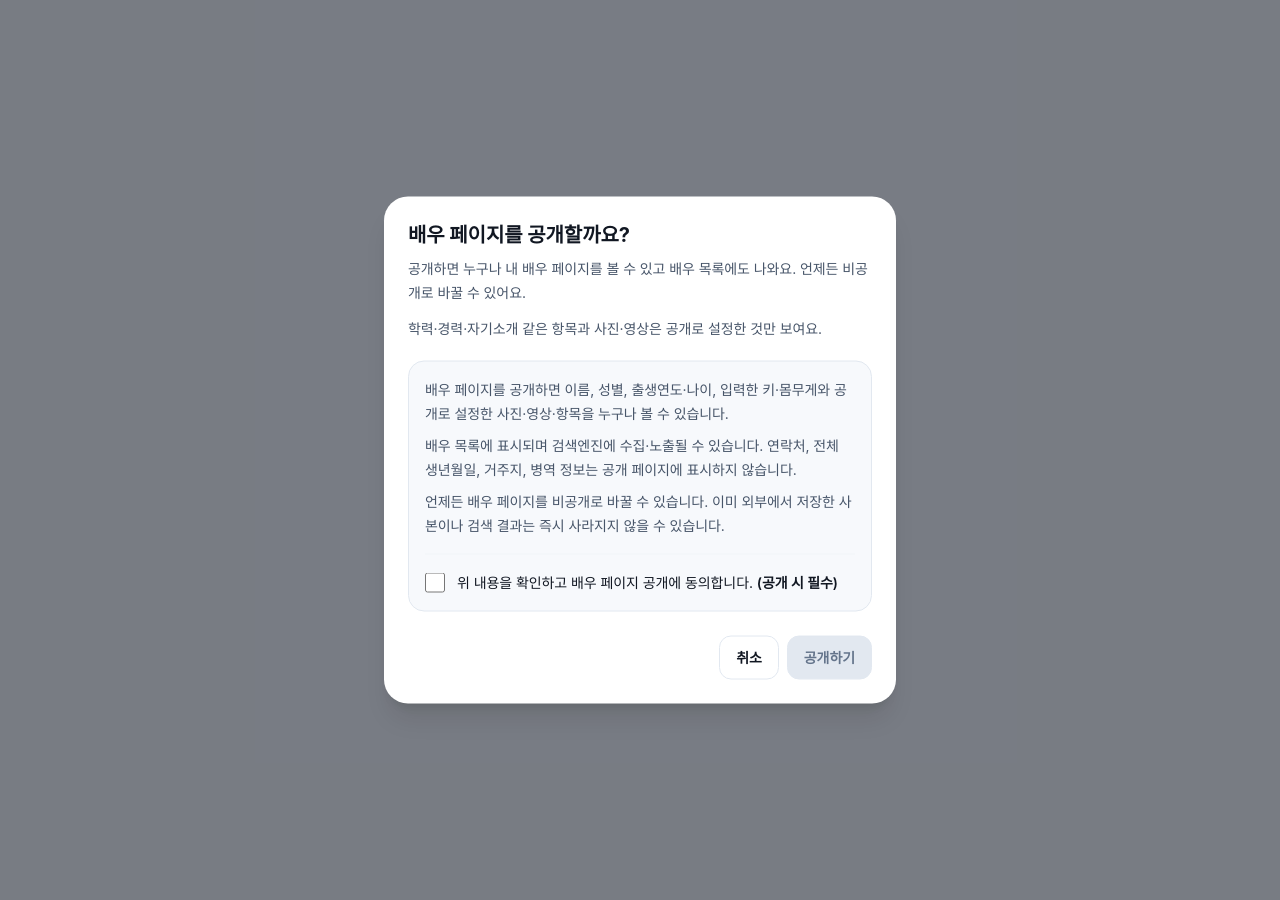
it: 공개 범위·검색엔진·비공개 후 외부 사본 고지를 보여 주고 동의해야 공개할 수 있다
The width and height of the screenshot is (1280, 900).
Expected: the dialog shows "배우 목록에 표시되며 검색엔진에 수집·노출될 수 있습니다. 연락처, 전체 생년월일, 거주지, 병역 정보는 공개 페이지에 표시하지 않습니다.", [425,436,839,478]
Expected: the dialog shows "언제든 배우 페이지를 비공개로 바꿀 수 있습니다. 이미 외부에서 저장한 사본이나 검색 결과는 즉시 사라지지 않을 수 있습니다.", [425,492,852,534]
Click the checkbox labelled "위 내용을 확인하고 배우 페이지 공개에 동의합니다. (공개 시 필수)".
click(435, 582)  # box [425,572,445,592]
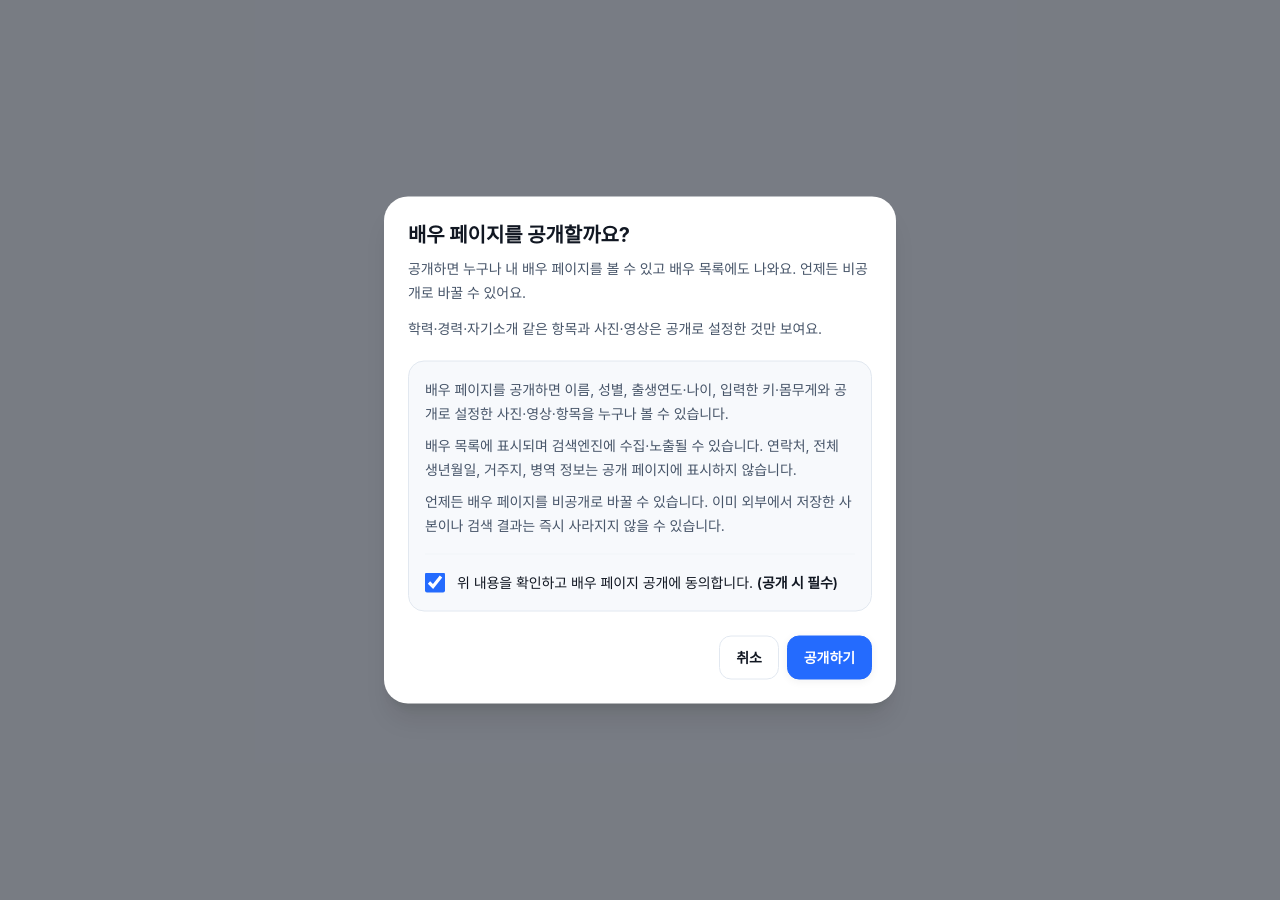
Result: the button "공개하기" is enabled at [787,636,872,680]
